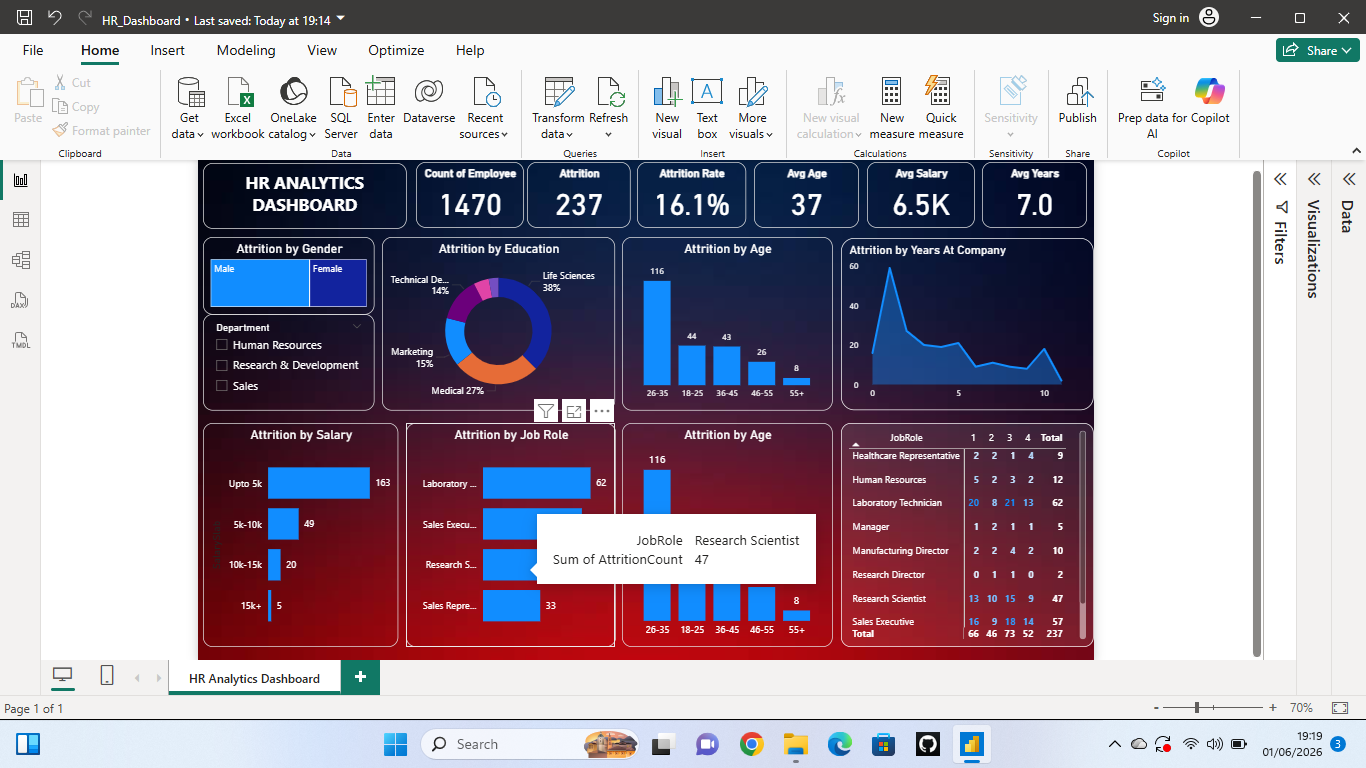

The page's visual inventory and layout, read from the dashboard file:
{"tool":"powerbi","page":{"name":"Page 1","canvas":[1280,720],"ordinal":0},"visuals":[{"type":"card","title":"Count of Employee","fields":{"Values":["CountNonNull(HR_Analytics (1).EmpID)"]},"box":[311,4.3,154.1,93.6],"z":0},{"type":"card","title":"Attrition","fields":{"Values":["Sum(HR_Analytics (1).AttritionCount)"]},"box":[469.4,4.3,148.3,93.6],"z":1000},{"type":"card","title":"Attrition Rate","fields":{"Values":["HR_Analytics (1).AttritionRate"]},"box":[627.8,4.3,155.5,93.6],"z":2000},{"type":"card","title":"Avg Age","fields":{"Values":["Avg(HR_Analytics (1).Age)"]},"box":[794.9,4.3,149.8,93.6],"z":3000},{"type":"card","title":"Avg Salary","fields":{"Values":["Avg(HR_Analytics (1).MonthlyIncome)"]},"box":[956.2,4.3,154.1,93.6],"z":4000},{"type":"card","title":"Avg Years","fields":{"Values":["Avg(HR_Analytics (1).YearsAtCompany)"]},"box":[1120.3,4.3,149.8,93.6],"z":5000},{"type":"donutChart","title":"Attrition by Education","fields":{"Category":["HR_Analytics (1).EducationField"],"Y":["Sum(HR_Analytics (1).AttritionCount)"]},"box":[263.5,110.9,332.6,247.7],"z":6000},{"type":"columnChart","title":"Attrition by Age","fields":{"Y":["Sum(HR_Analytics (1).AttritionCount)"],"Category":["HR_Analytics (1).AgeGroup"]},"box":[606.2,110.9,301,247.7],"z":7000},{"type":"pivotTable","fields":{"Rows":["HR_Analytics (1).JobRole"],"Columns":["HR_Analytics (1).JobSatisfaction"],"Values":["Sum(HR_Analytics (1).AttritionCount)"]},"box":[918.7,377.3,361.4,319.7],"z":8000},{"type":"clusteredBarChart","title":"Attrition by Salary","fields":{"Y":["Sum(HR_Analytics (1).AttritionCount)"],"Category":["HR_Analytics (1).SalarySlab"]},"box":[7.2,377.3,279.4,319.7],"z":9000},{"type":"clusteredBarChart","title":"Attrition by Job Role","fields":{"Y":["Sum(HR_Analytics (1).AttritionCount)"],"Category":["HR_Analytics (1).JobRole"]},"box":[296.6,377.3,299.5,319.7],"z":10000},{"type":"columnChart","title":"Attrition by Age","fields":{"Y":["Sum(HR_Analytics (1).AttritionCount)"],"Category":["HR_Analytics (1).AgeGroup"]},"box":[606.2,377.3,301,319.7],"z":11000},{"type":"areaChart","title":"Attrition by Years At Company","fields":{"Category":["HR_Analytics (1).YearsAtCompany"],"Y":["Sum(HR_Analytics (1).AttritionCount)"]},"box":[918.7,112.3,361.4,246.2],"z":12000},{"type":"slicer","fields":{"Values":["HR_Analytics (1).Department"]},"box":[6.7,221.7,245.2,137.7],"z":13000},{"type":"textbox","box":[6.7,5,290.6,94.1],"z":14000},{"type":"treemap","title":"Attrition by Gender","fields":{"Group":["HR_Analytics (1).Gender"],"Values":["Sum(HR_Analytics (1).AttritionCount)"]},"box":[6.7,110.9,245.2,110.9],"z":15000}]}

Visuals, with their boxes on the page's 1280x720 design canvas (x1, y1, x2, y2). These are canvas units, not pixel positions in the 1366x768 screenshot, which may show the page scaled, cropped or inside an application window:
"Count of Employee" card: x1=311 y1=4 x2=465 y2=98
"Attrition" card: x1=469 y1=4 x2=618 y2=98
"Attrition Rate" card: x1=628 y1=4 x2=783 y2=98
"Avg Age" card: x1=795 y1=4 x2=945 y2=98
"Avg Salary" card: x1=956 y1=4 x2=1110 y2=98
"Avg Years" card: x1=1120 y1=4 x2=1270 y2=98
"Attrition by Education" donutChart: x1=264 y1=111 x2=596 y2=359
"Attrition by Age" columnChart: x1=606 y1=111 x2=907 y2=359
pivotTable - HR_Analytics (1).JobRole x HR_Analytics (1).JobSatisfaction: x1=919 y1=377 x2=1280 y2=697
"Attrition by Salary" clusteredBarChart: x1=7 y1=377 x2=287 y2=697
"Attrition by Job Role" clusteredBarChart: x1=297 y1=377 x2=596 y2=697
"Attrition by Age" columnChart: x1=606 y1=377 x2=907 y2=697
"Attrition by Years At Company" areaChart: x1=919 y1=112 x2=1280 y2=358
slicer - HR_Analytics (1).Department: x1=7 y1=222 x2=252 y2=359
textbox: x1=7 y1=5 x2=297 y2=99
"Attrition by Gender" treemap: x1=7 y1=111 x2=252 y2=222
